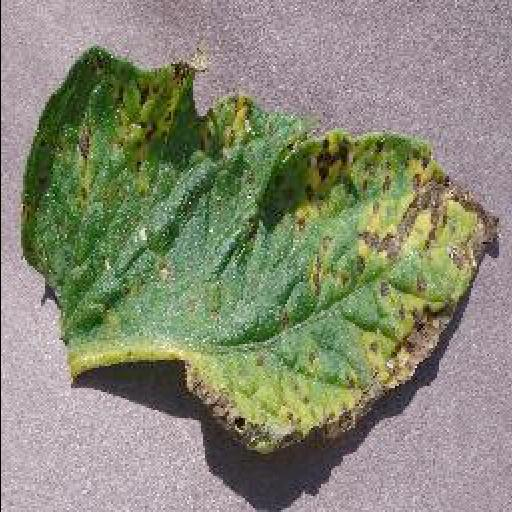disease_tomato: (20, 46, 498, 451)
